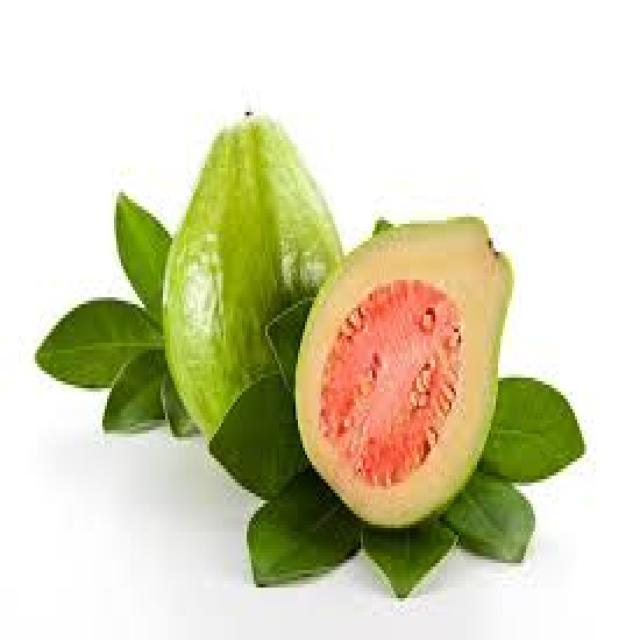Guava: (283, 216, 532, 539), (197, 123, 328, 442)
